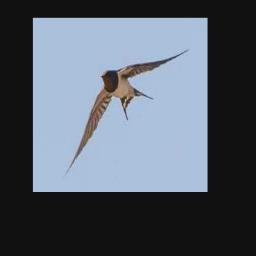Swallow: (63, 49, 190, 178)
